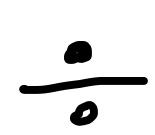div: (19, 40, 149, 127)
